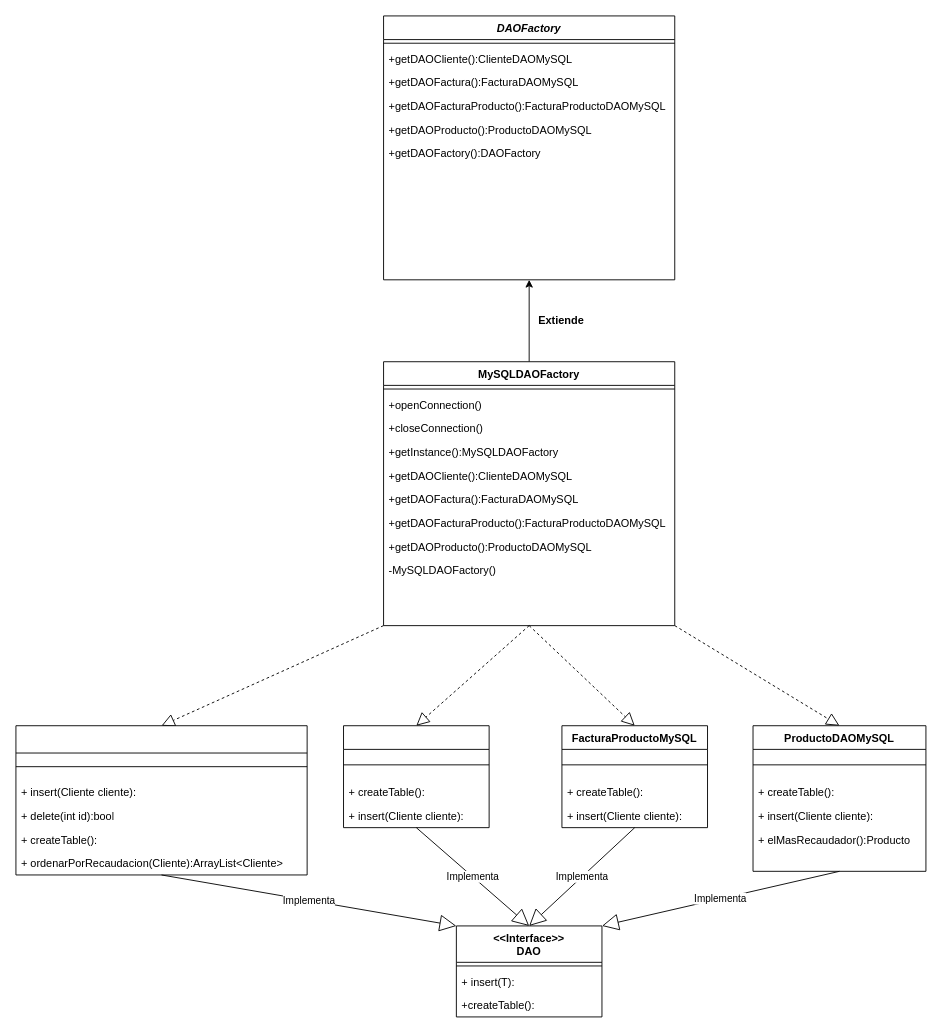
Image size: 942x1036. Some labels were removed from this diagram. Here are the shapes that lost their labels. From the top down, the box of each, then its label:
(343, 725, 489, 828): FacturaDAOMySQL
(15, 725, 307, 875): ClienteDAOMySQL
